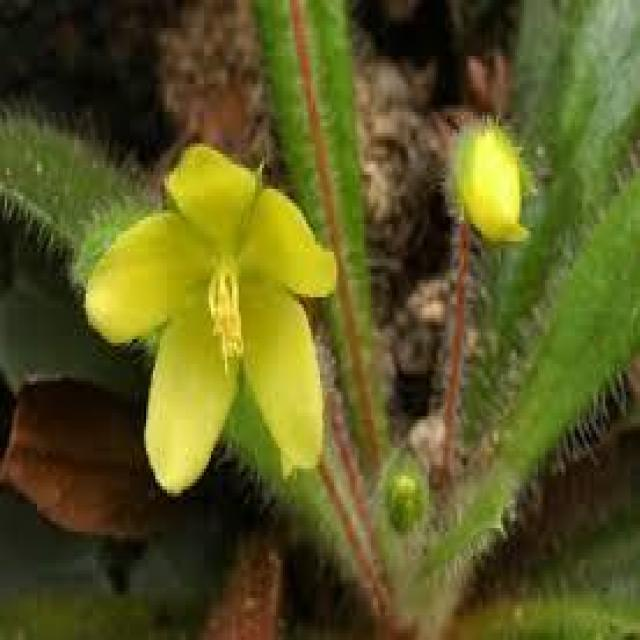organic waste: (71, 150, 349, 490), (443, 108, 540, 280)
